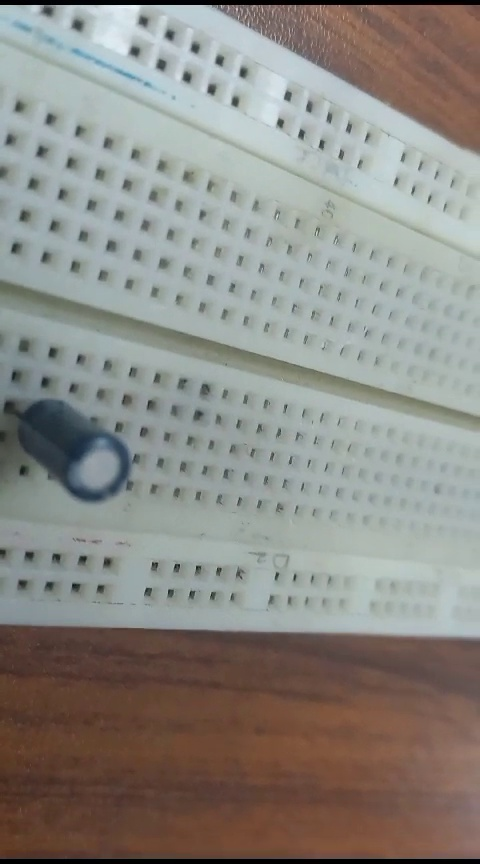capacitor: (11, 375, 147, 519)
